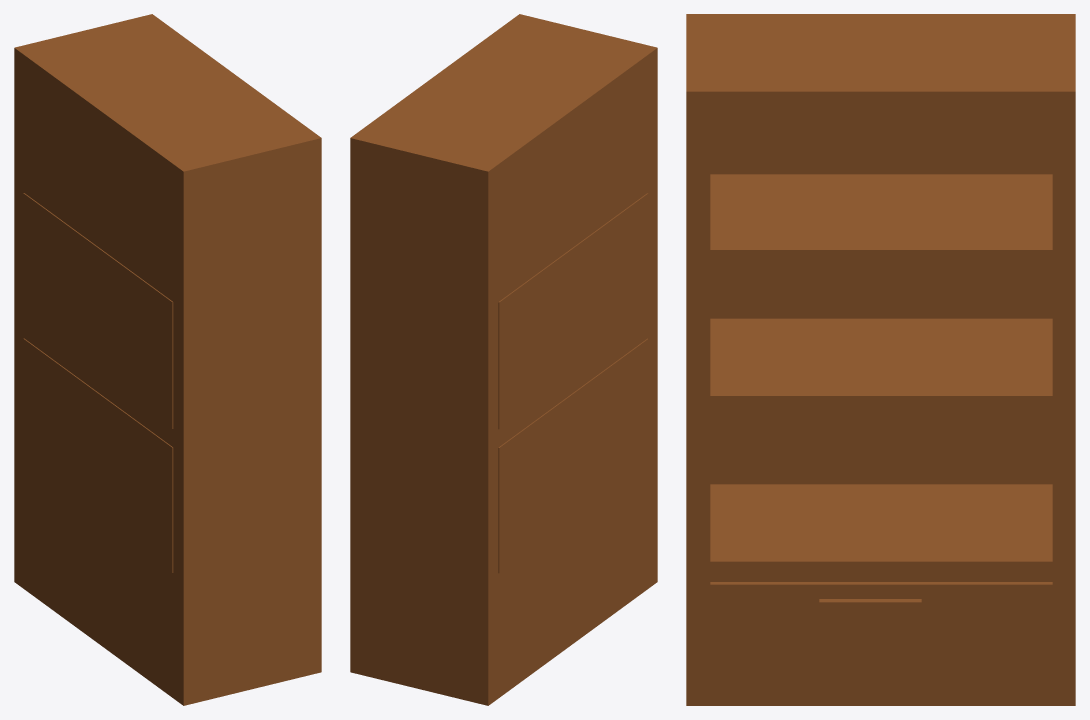
The model's file is Organizadorv2.fbx.
3 views of the same model, side by side, from view 1: azimuth 30°, elevation 25°; view 2: azimuth 150°, elevation 25°; view 3: azimuth 270°, elevation 25° (orthographic). The views are drawn at different scales.
Parts seen in each view (by area): view 1: Organizador; view 2: Organizador; view 3: Organizador.
Part boxes in pixels (x1,y1,x2,y2): Organizador: [14, 14, 321, 705]; Organizador: [350, 14, 657, 705]; Organizador: [686, 14, 1075, 705].
Bounding box in the file's own units: 146 × 520 × 299.
